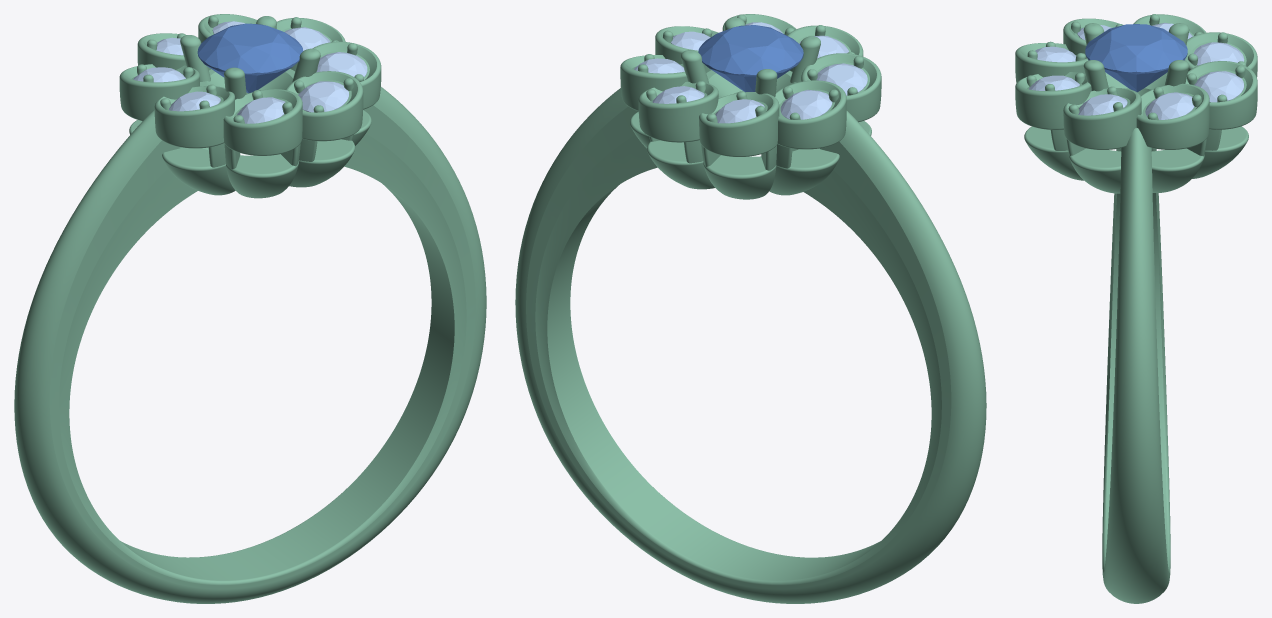
3 renders of one model, left to right at view 1: azimuth 30°, elevation 25°; view 2: azimuth 150°, elevation 25°; view 3: azimuth 270°, elevation 25°, orthographic. The views are drawn at different scales.
Visible parts, largest first — view 1: MP - 39.3dm, Diamond_Round (×5), Head Prong, Head Rail; view 2: MP - 39.3dm, Diamond_Round (×4), Head Prong (×2), Head Rail; view 3: MP - 39.3dm, Diamond_Round (×7), Head Prong (×2), Head Rail.
Boxes of the visible parts, <box> form: MP - 39.3dm: <box>14,14,486,603</box>; Diamond_Round (×5): <box>169,23,367,123</box>; Head Prong: <box>180,35,210,81</box>; Head Rail: <box>200,69,294,93</box>; MP - 39.3dm: <box>515,14,986,603</box>; Diamond_Round (×4): <box>698,25,867,123</box>; Head Prong (×2): <box>681,36,820,83</box>; Head Rail: <box>706,70,796,98</box>; MP - 39.3dm: <box>1015,14,1257,603</box>; Diamond_Round (×7): <box>1029,24,1244,119</box>; Head Prong (×2): <box>1083,60,1189,91</box>; Head Rail: <box>1105,72,1167,95</box>.
Bounding box in the file's own units: 2.52 × 2.88 × 1.17.
